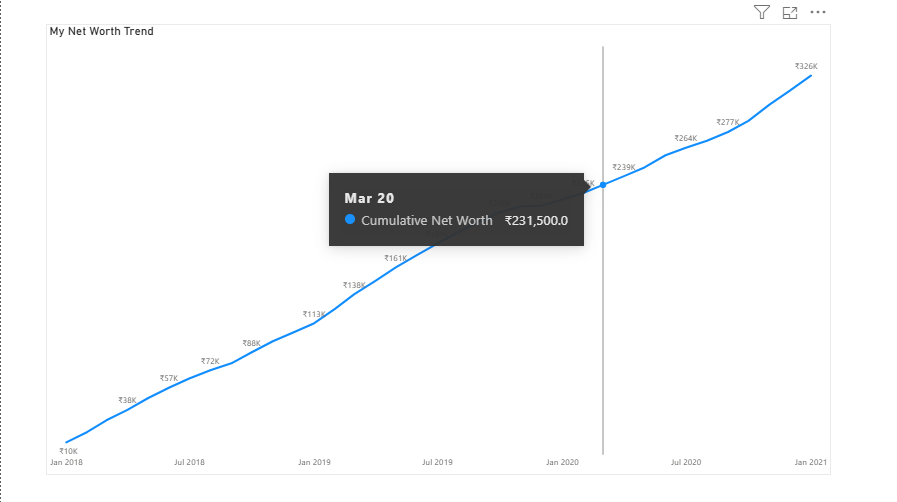

The dashboard page shown, as its layout file describes it:
{"tool":"powerbi","page":{"name":"TT3","canvas":[1280,720],"ordinal":3},"visuals":[{"type":"lineChart","title":"My Net Worth Trend","fields":{"Category":["FinData.Date"],"Y":["Key Measures.Cumulative Net Worth"]},"box":[64,34.6,1121.7,644.3],"z":0}]}

Visuals, with their boxes in screenshot pixels (x1, y1, x2, y2), scaled from the page's 1280x720 canvas onto the 897x502 screenshot:
"My Net Worth Trend" lineChart: bbox=(45, 24, 831, 473)
